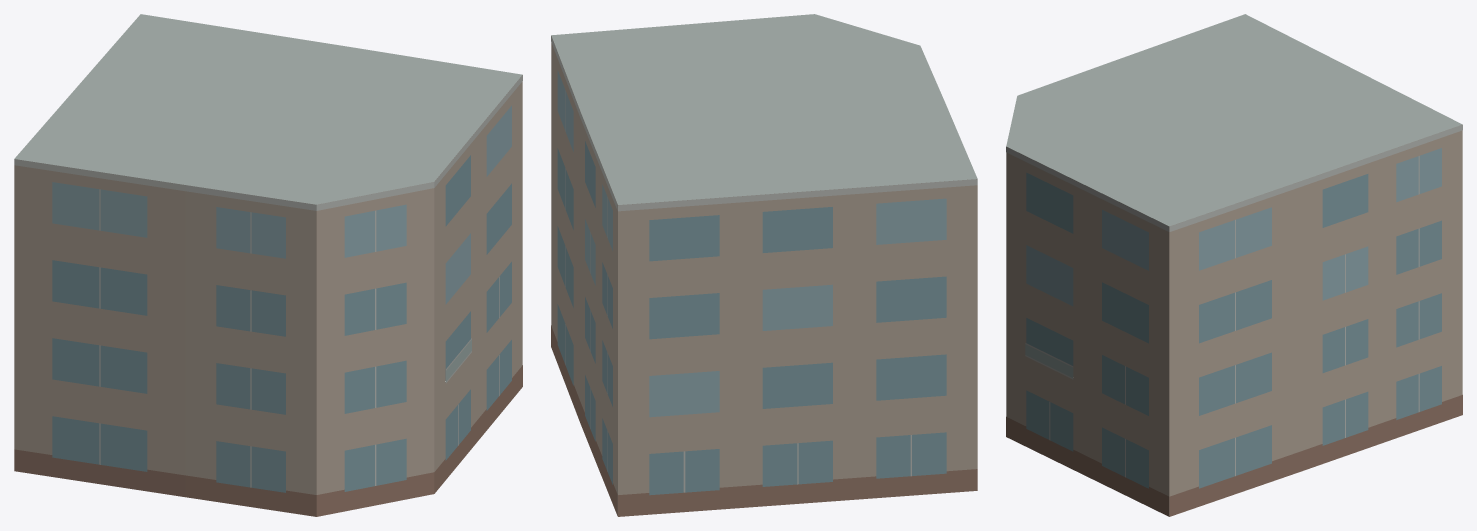
The model's file is survey-upis-32844131.glb.
3 views of the same model, side by side, from view 1: azimuth 30°, elevation 25°; view 2: azimuth 150°, elevation 25°; view 3: azimuth 270°, elevation 25° (orthographic). The views are drawn at different scales.
Visible parts, largest first — view 1: survey-upis-32844131.tmp; view 2: survey-upis-32844131.tmp; view 3: survey-upis-32844131.tmp.
Part boxes in pixels (bbox=[...]): survey-upis-32844131.tmp: bbox=[14, 14, 522, 516]; survey-upis-32844131.tmp: bbox=[551, 14, 977, 516]; survey-upis-32844131.tmp: bbox=[1006, 14, 1462, 516].
Size of the model in its own units: 19.14 by 12.2 by 17.39.
